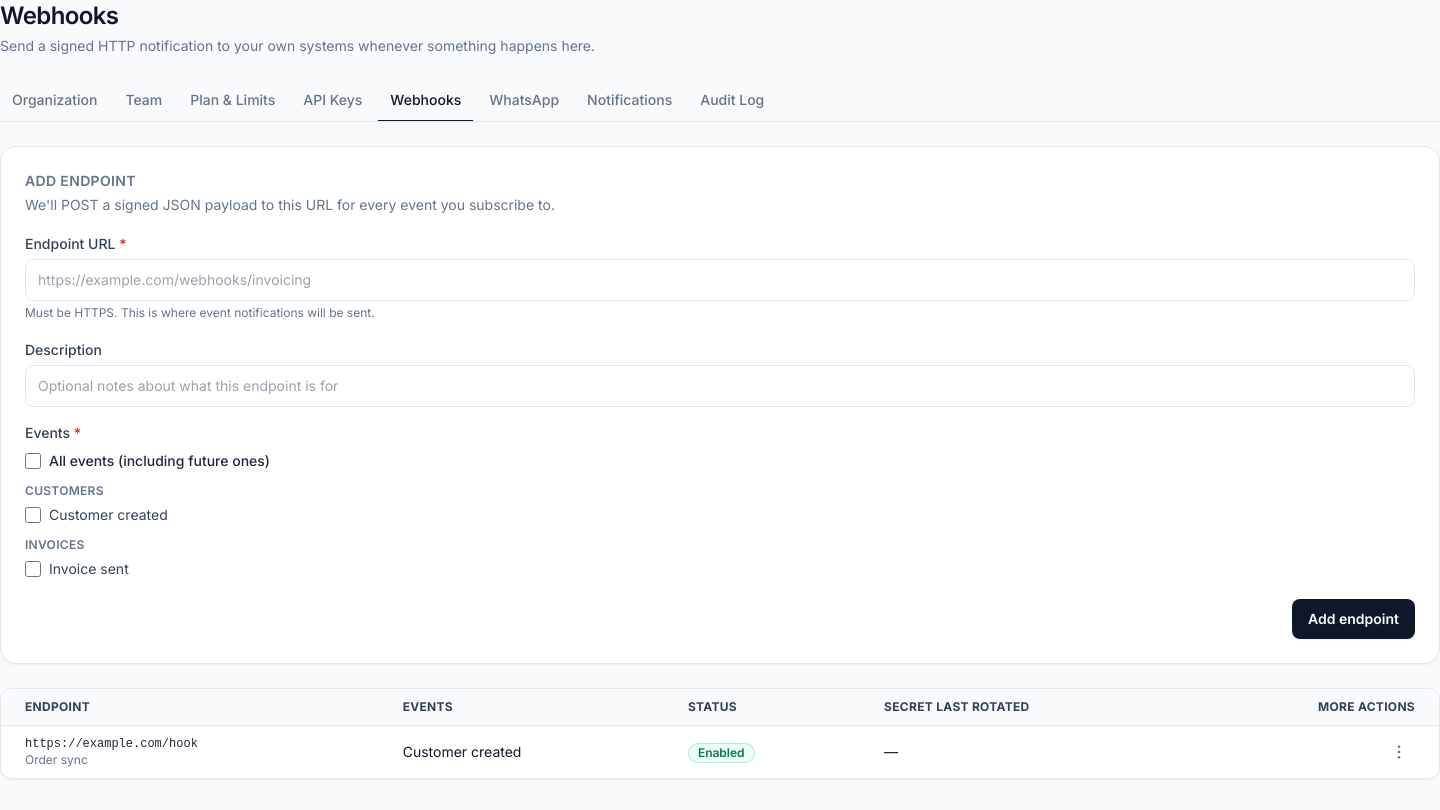
it: WebhooksPage › shows the plan-limit dialog when the webhook quota is reached (409 plan_limit_reached)
Expected: the text "https://example.com/hook" is shown, [25,737,198,751]
Step 1. Type "https://example.com/new-hook" into the field labelled "Endpoint URL *" → (720, 280), box [25,259,1415,301]
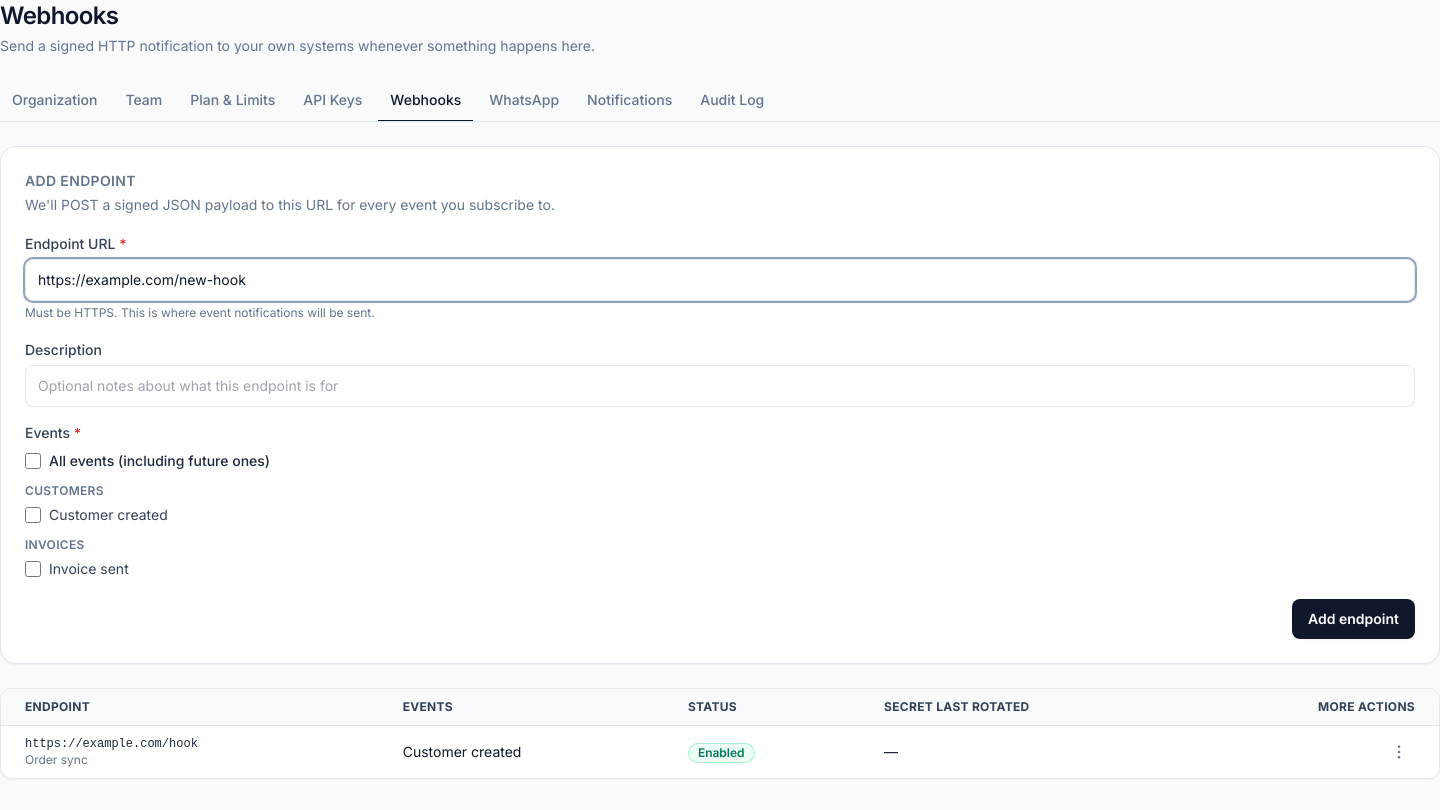
Step 2. Click the checkbox labelled "Customer created" → (33, 515), box [25,507,41,523]
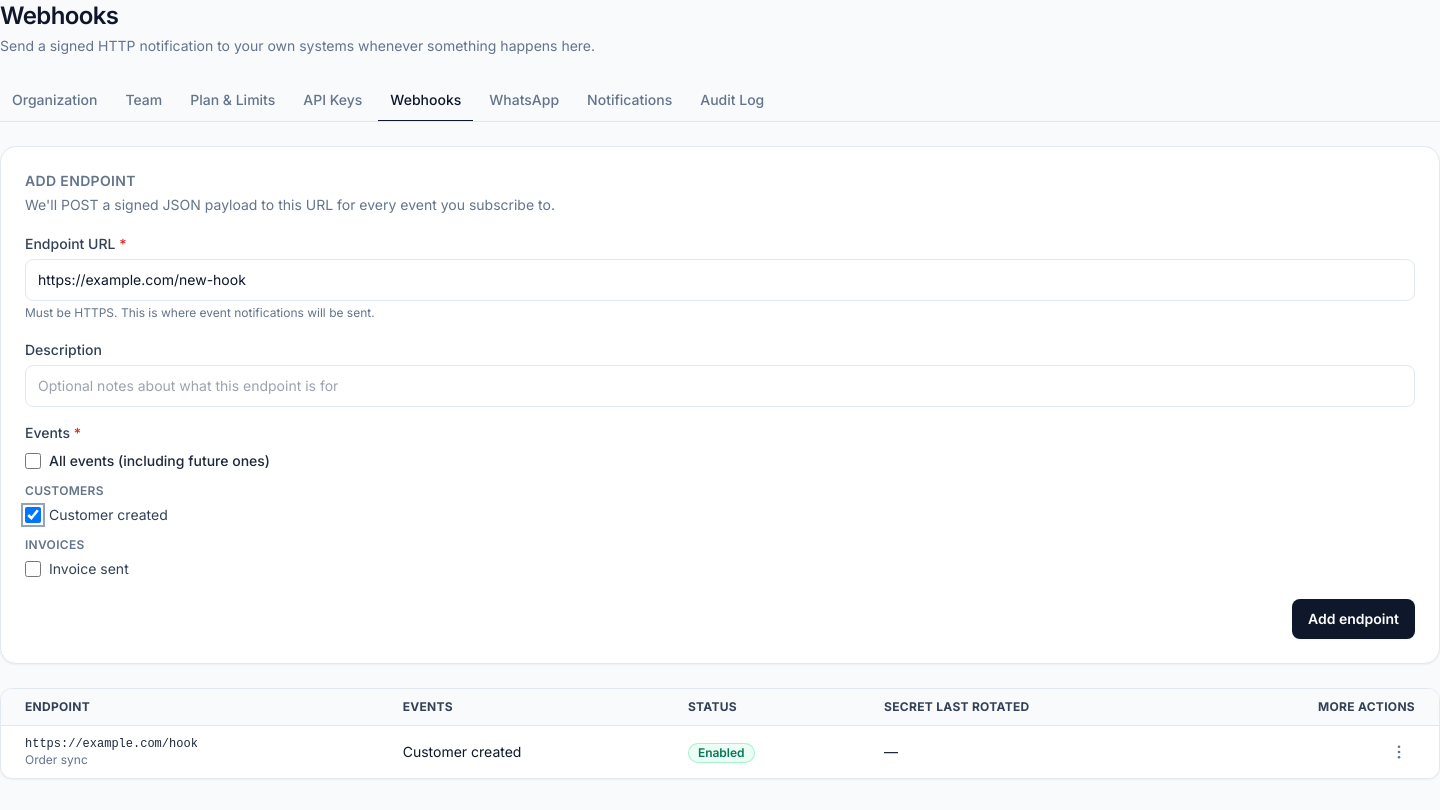
Step 3. Click the button "Add endpoint" → (1354, 619), box [1292,599,1415,639]
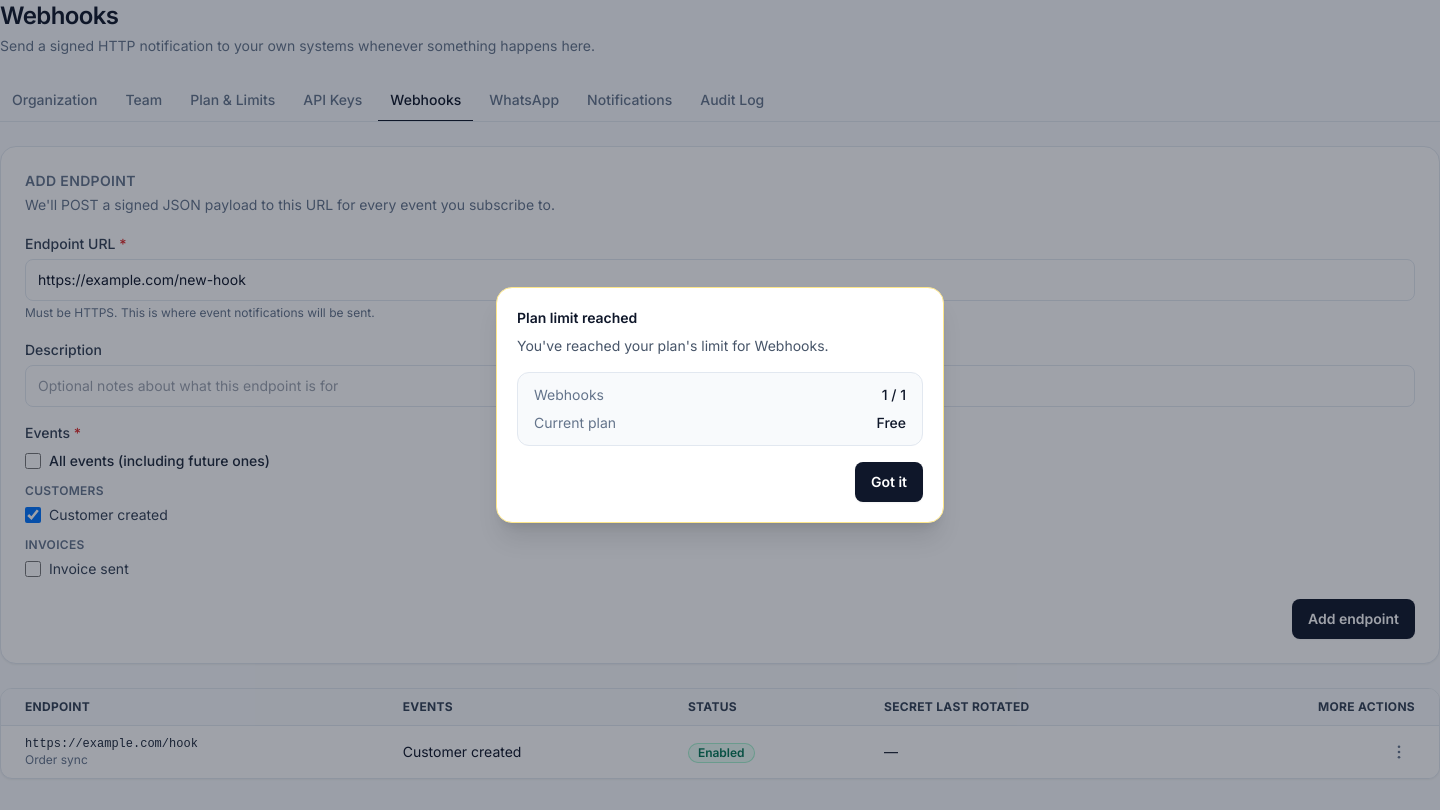
Result: the dialog is shown at [496,287,944,523]
Result: the text "You've reached your plan's limit for Webhooks." is shown at [517,337,829,354]
